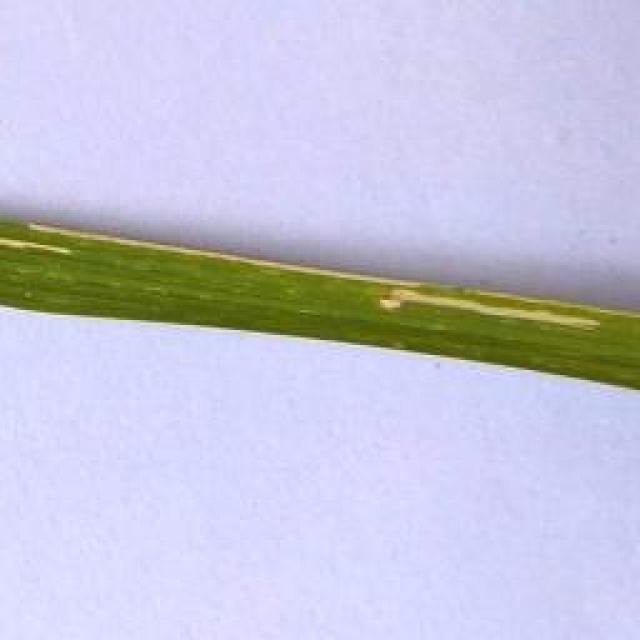Unhealthy: (28, 223, 599, 331), (476, 289, 640, 319), (0, 236, 73, 255)
